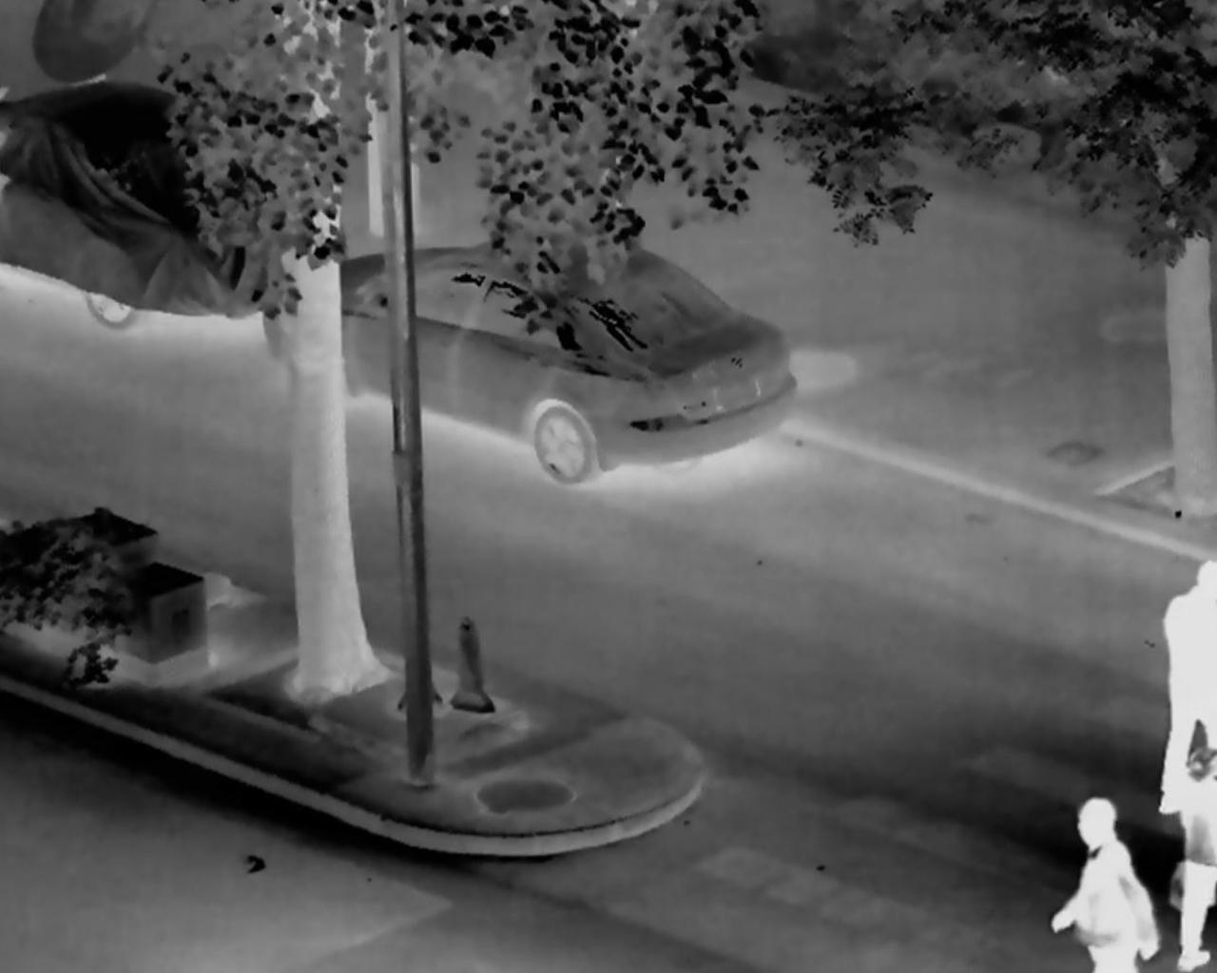person: (1044, 792, 1152, 973), (1161, 557, 1217, 818), (1168, 746, 1215, 969)
